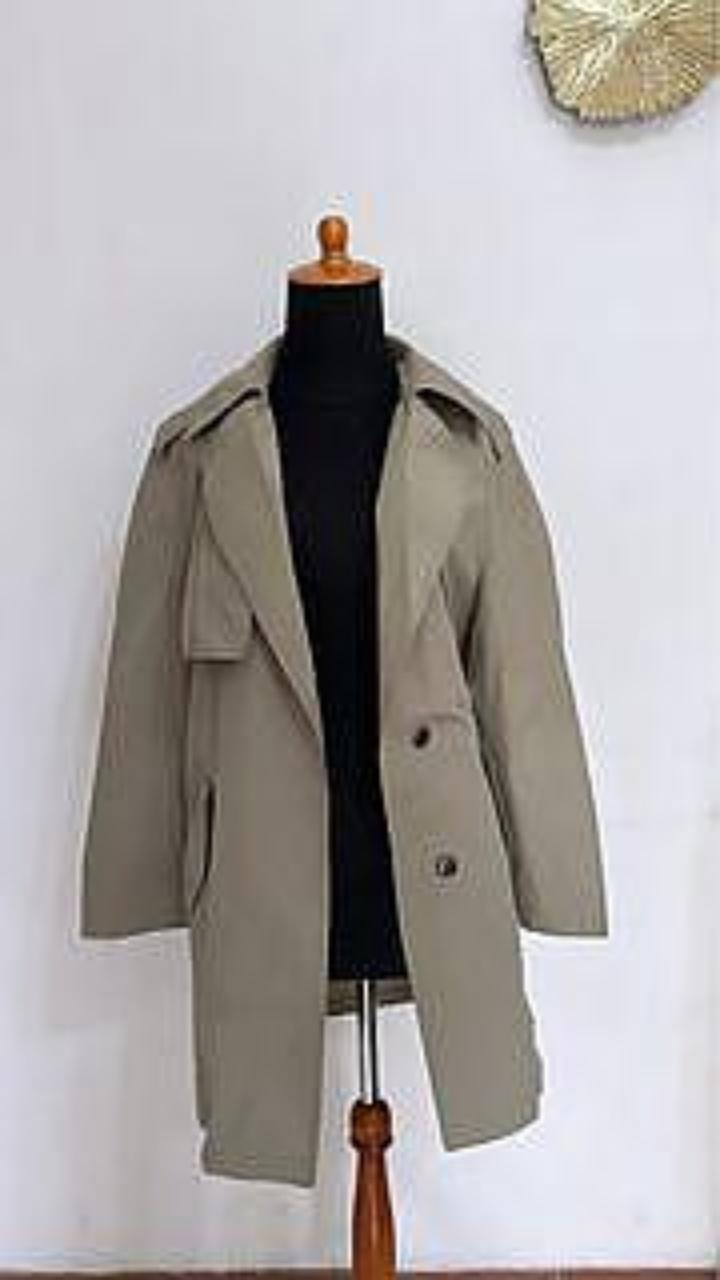Coat: (80, 335, 356, 1185)
